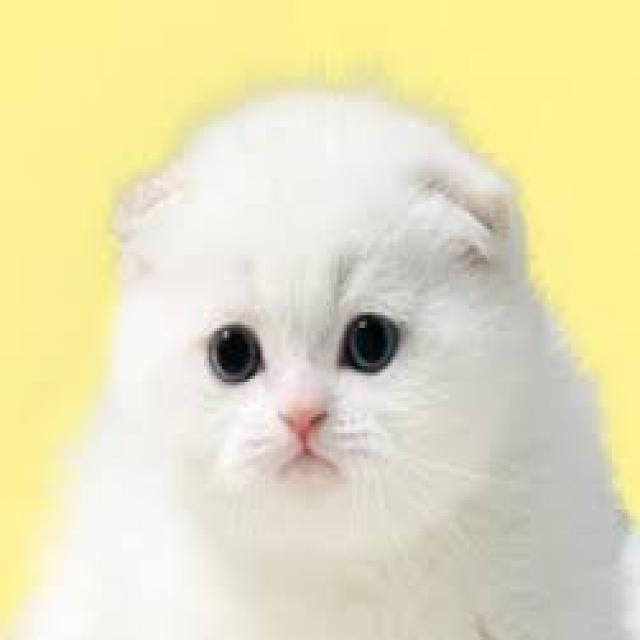cat-face: (90, 55, 552, 605)
